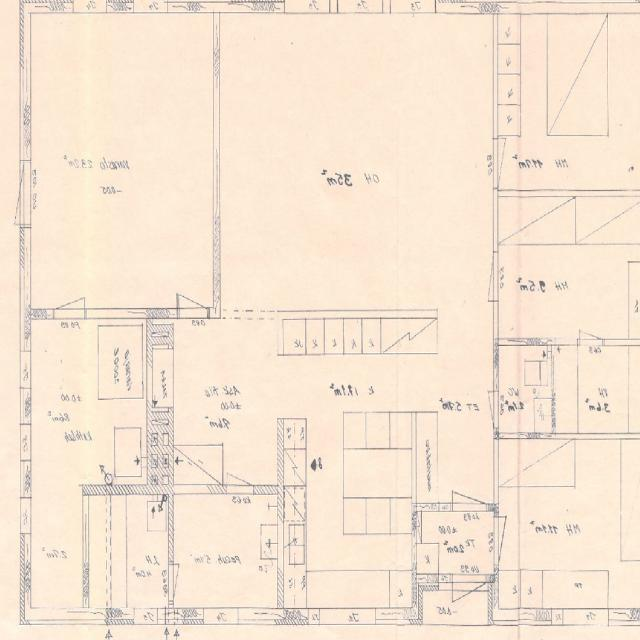door: (452, 449, 487, 511), (453, 575, 486, 640), (462, 252, 499, 303), (54, 258, 85, 318), (494, 138, 529, 188), (178, 260, 208, 318), (494, 516, 528, 564), (227, 442, 253, 494), (169, 564, 197, 601), (471, 391, 498, 428), (580, 302, 602, 345)
